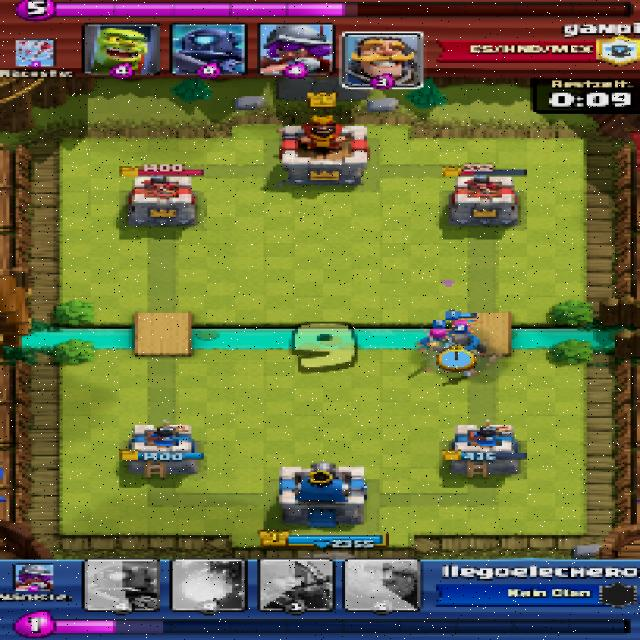Player-Archer: (418, 327, 448, 346), (444, 318, 474, 334)
Player-Knight: (434, 337, 489, 361)
